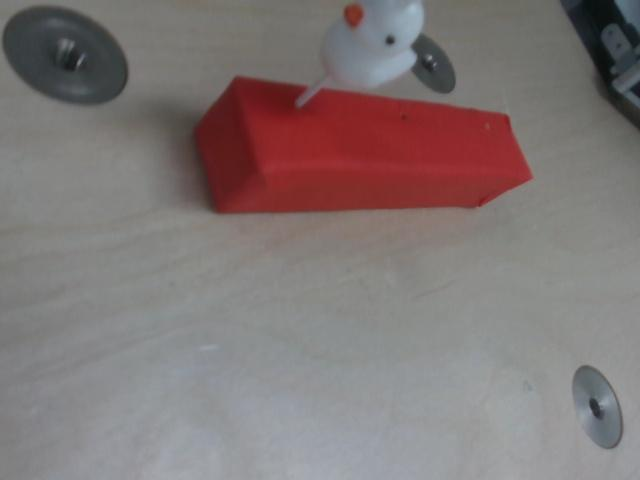w_duck: (323, 1, 423, 86)
